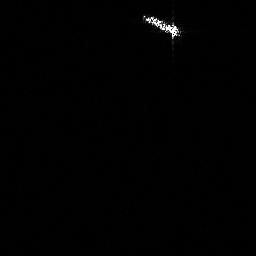ship: (138, 11, 185, 42)
